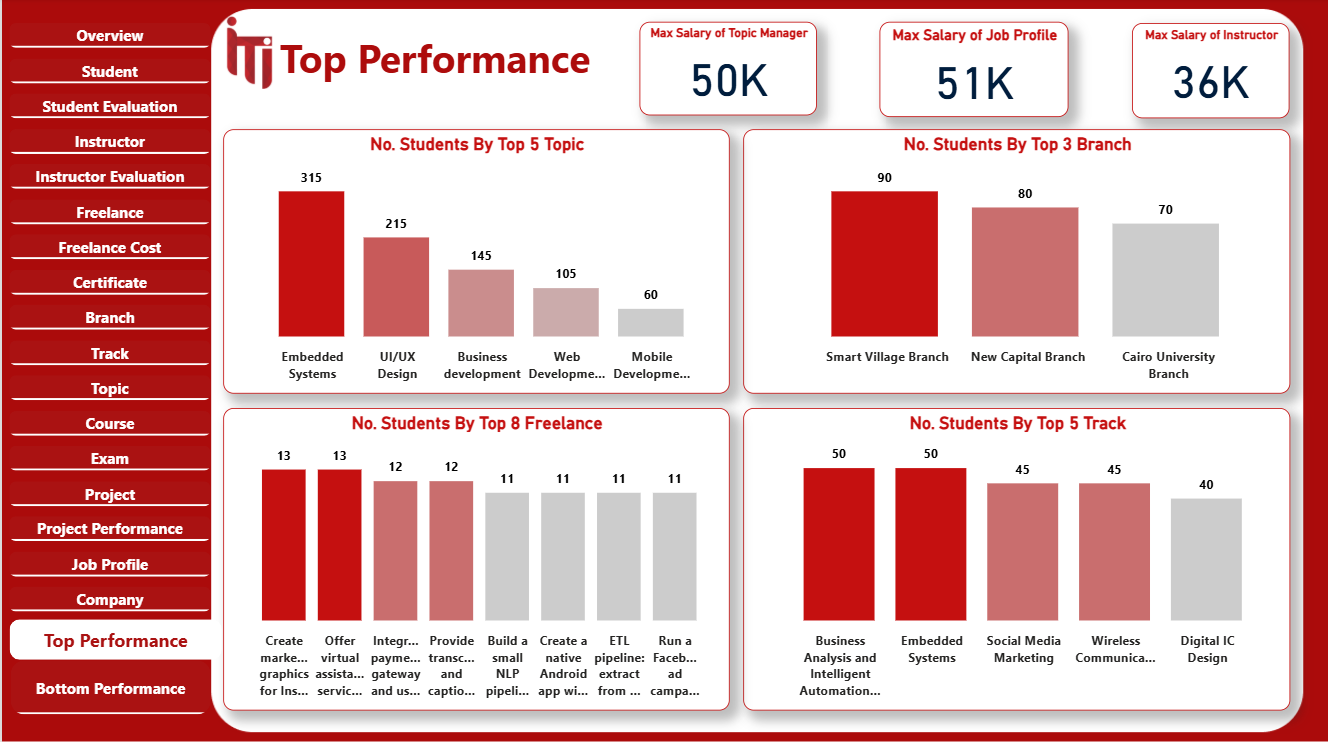

The page's visual inventory and layout, read from the dashboard file:
{"tool":"powerbi","page":{"name":"Top Performance","canvas":[1280,720],"ordinal":17},"visuals":[{"type":"card","title":"Max Salary of Instructor","fields":{"Values":["Max(Dim_Instructor.Salary)"]},"box":[1090.5,23.8,152.4,91.7],"z":0},{"type":"card","title":"Max Salary of Job Profile","fields":{"Values":["Max(Dim_Job_Profile.Salary)"]},"box":[847.1,23.3,182.5,91.9],"z":1000},{"type":"card","title":"Max Salary of Topic Manager","fields":{"Values":["Max(vw_Dim_Topic.Salary)"]},"box":[614.8,23.3,171.5,90.6],"z":2000},{"type":"clusteredColumnChart","title":"No. Students By Top 3 Branch","fields":{"Category":["vw_Dim_Branch.Branch_Name"],"Y":["Count(Fact_Student_Performance.st_id)"]},"box":[714.9,126.2,528.3,255.2],"z":3000},{"type":"clusteredColumnChart","title":"No. Students By Top 5 Topic","fields":{"Y":["Count(Fact_Student_Performance.st_id)"],"Category":["vw_Dim_Topic.Topic_Name"]},"box":[214.1,126.2,488.5,255.2],"z":4000},{"type":"clusteredColumnChart","title":"No. Students By Top 5 Track","fields":{"Y":["Count(Fact_Student_Performance.st_id)"],"Category":["vw_Dim_Track.Track_Name"]},"box":[714.9,395.2,528.3,292.3],"z":5000},{"type":"clusteredColumnChart","title":"No. Students By Top 8 Freelance","fields":{"Y":["Count(Fact_Student_Performance.st_id)"],"Category":["vw_Dim_Freelance.job_description"]},"box":[214.1,395.2,488.5,292.3],"z":6000},{"type":"pageNavigator","box":[6.9,24.7,194.9,575],"z":7000},{"type":"pageNavigator","box":[6.9,599.7,205.8,39.8],"z":8000},{"type":"pageNavigator","box":[8.2,639.5,193.5,52.1],"z":9000},{"type":"image","box":[196.2,4.1,86.4,89.2],"z":10000},{"type":"textbox","box":[263.5,27.4,351.3,65.9],"z":11000}]}

Visuals, with their boxes in screenshot pixels (x1, y1, x2, y2), scaled from the page's 1280x720 canvas onto the 1328x742 screenshot:
"Max Salary of Instructor" card: BBox(1131, 25, 1290, 119)
"Max Salary of Job Profile" card: BBox(879, 24, 1068, 119)
"Max Salary of Topic Manager" card: BBox(638, 24, 816, 117)
"No. Students By Top 3 Branch" clusteredColumnChart: BBox(742, 130, 1290, 393)
"No. Students By Top 5 Topic" clusteredColumnChart: BBox(222, 130, 729, 393)
"No. Students By Top 5 Track" clusteredColumnChart: BBox(742, 407, 1290, 709)
"No. Students By Top 8 Freelance" clusteredColumnChart: BBox(222, 407, 729, 709)
pageNavigator: BBox(7, 25, 209, 618)
pageNavigator: BBox(7, 618, 221, 659)
pageNavigator: BBox(9, 659, 209, 713)
image: BBox(204, 4, 293, 96)
textbox: BBox(273, 28, 638, 96)
